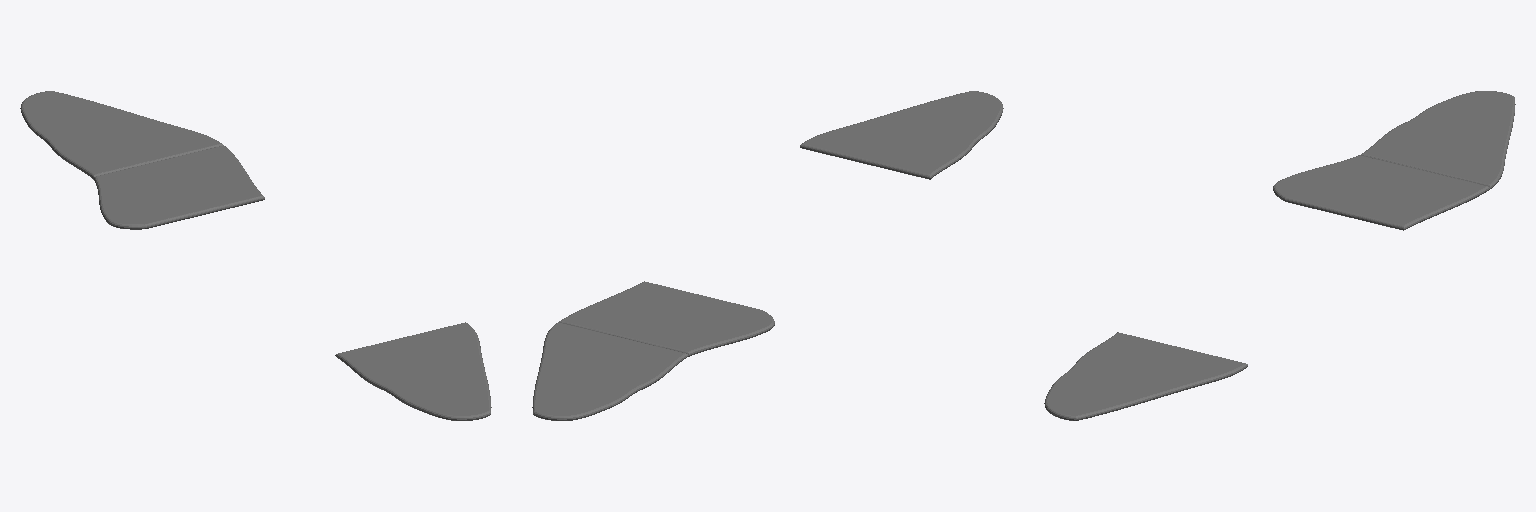
The robot description file, URDF, robot "pigeon_8":
<?xml version="1.0"?>

<robot
  name="pigeon_8">
  <link
    name="torso">
    <inertial>
      <origin
        xyz="-0.132434070149677 -0.0071275062500549 2.92945296786129E-07"
        rpy="0 0 0" />
      <mass
        value="0.266575552840038" />
      <inertia
        ixx="0.00016350796386525"
        ixy="1.49468441773123E-05"
        ixz="1.32757604675555E-08"
        iyy="0.0008571776199688"
        iyz="8.62174508642145E-09"
        izz="0.000802843103287114" />
    </inertial>
    <visual>
      <origin
        xyz="0 0 0"
        rpy="0 0 0" />
      <geometry>
        <mesh
          filename="../meshes/torso.STL" />
      </geometry>
      <material
        name="">
        <color
          rgba="0.5 0.5 0.5 1" />
      </material>
    </visual>
  </link>
  <link
    name="tail">
    <inertial>
      <origin
        xyz="-1.49386379874309E-15 3.52607914646941E-18 -0.0652517307094302"
        rpy="0 0 0" />
      <mass
        value="0.00283414865838335" />
      <inertia
        ixx="2.346394244564E-06"
        ixy="1.6796936313655E-23"
        ixz="-2.4459164318114E-20"
        iyy="1.14735911790603E-05"
        iyz="6.45749316579695E-24"
        izz="9.13466619052063E-06" />
    </inertial>
    <visual>
      <origin
        xyz="0 0 0"
        rpy="0 0 0" />
      <geometry>
        <mesh
          filename="../meshes/tail.STL" />
      </geometry>
      <material
        name="">
        <color
          rgba="0.5 0.5 0.5 1" />
      </material>
    </visual>
  </link>
  <joint
    name="tail_joint"
    type="continuous">
    <origin
      xyz="-0.22998 0 0"
      rpy="-1.5708 -6.123E-17 -1.5708" />
    <parent
      link="torso" />
    <child
      link="tail" />
    <axis
      xyz="-1 0 0" />
    <dynamics
      damping="0.0007" />
  </joint>
  <link
    name="left_shoulder_roll_ghost">
    <inertial>
       <mass
        value="0" />
    </inertial>
  </link>
  <joint
    name="left_shoulder_roll"
    type="continuous">
    <origin
      xyz="-0.07698 0.042 0"
      rpy="1.5708 0 0" />
    <parent
      link="torso" />
    <child
      link="left_shoulder_roll_ghost" />
    <axis
      xyz="1 0 0" />
    <dynamics
      damping="0.001" />
  </joint>
  <link
    name="left_shoulder_pitch_ghost">
    <inertial>
       <mass
        value="0" />
    </inertial>
  </link>
  <joint
    name="left_shoulder_pitch"
    type="continuous">
    <origin
      xyz="-0.005 0 0"
      rpy="0 0 0" />
    <parent
      link="left_shoulder_roll_ghost" />
    <child
      link="left_shoulder_pitch_ghost" />
    <axis
      xyz="0 0 1" />
    <dynamics
      damping="0.001" />
  </joint>
  <link
    name="left_upper_wing">
    <inertial>
      <origin
        xyz="-0.0218027728742863 1.26519792767838E-08 -0.0543039239207447"
        rpy="0 0 0" />
      <mass
        value="0.00478467934314603" />
      <inertia
        ixx="3.47747506697266E-06"
        ixy="1.43326598475424E-12"
        ixz="4.41899816252952E-07"
        iyy="4.1509026030839E-06"
        iyz="-3.28097162574946E-12"
        izz="6.85803263309497E-07" />
    </inertial>
    <visual>
      <origin
        xyz="0 0 0"
        rpy="0 0 0" />
      <geometry>
        <mesh
          filename="../meshes/left_upper_wing.STL" />
      </geometry>
      <material
        name="">
        <color
          rgba="0.5 0.5 0.5 1" />
      </material>
    </visual>
  </link>
  <joint
    name="left_shoulder_yaw"
    type="continuous">
    <origin
      xyz="0 0 0"
      rpy="3.141592653 -1.5708 0" />
    <parent
      link="left_shoulder_pitch_ghost" />
    <child
      link="left_upper_wing" />
    <axis
      xyz="0 1 0" />
    <dynamics
      damping="0.001" />
  </joint>
  <link
    name="left_elbow_roll_ghost">
    <inertial>
       <mass
        value="0" />
    </inertial>
  </link>
  <joint
    name="left_elbow_roll"
    type="continuous">
    <origin
      xyz="-0.041998 0 -0.010054"
      rpy="3.141592653 -1.5708 0" />
    <parent
      link="left_upper_wing" />
    <child
      link="left_elbow_roll_ghost" />
    <axis
      xyz="1 0 0" />
    <dynamics
      damping="0.001" />
  </joint>
  <link
    name="left_elbow_pitch_ghost">
    <inertial>
       <mass
        value="0" />
    </inertial>
  </link>
  <joint
    name="left_elbow_pitch"
    type="continuous">
    <origin
      xyz="-0.005 0 0"
      rpy="0 0 0" />
    <parent
      link="left_elbow_roll_ghost" />
    <child
      link="left_elbow_pitch_ghost" />
    <axis
      xyz="0 0 1" />
    <dynamics
      damping="0.001" />
  </joint>
  <link
    name="left_mid_wing">
    <inertial>
      <origin
        xyz="-0.0461463515315644 -7.03928812610859E-08 -0.0495486671552645"
        rpy="0 0 0" />
      <mass
        value="0.0092322213928293" />
      <inertia
        ixx="1.13159761781576E-05"
        ixy="2.18214270640706E-11"
        ixz="-1.65204671390385E-06"
        iyy="1.76124962714535E-05"
        iyz="1.10157921385632E-12"
        izz="6.32076926607804E-06" />
    </inertial>
    <visual>
      <origin
        xyz="0 0 0"
        rpy="0 0 0" />
      <geometry>
        <mesh
          filename="../meshes/left_mid_wing.STL" />
      </geometry>
      <material
        name="">
        <color
          rgba="0.5 0.5 0.5 1" />
      </material>
    </visual>
  </link>
  <joint
    name="left_elbow_yaw"
    type="continuous">
    <origin
      xyz="0 0 0"
      rpy="3.141592653 -1.5708 0" />
    <parent
      link="left_elbow_pitch_ghost" />
    <child
      link="left_mid_wing" />
    <axis
      xyz="0 1 0" />
    <dynamics
      damping="0.001" />
  </joint>
  <link
    name="left_hand_wing">
    <inertial>
      <origin
        xyz="-0.0597835058137273 -3.75375056547601E-08 -0.0458134569307155"
        rpy="0 0 0" />
      <mass
        value="0.00605546079567201" />
      <inertia
        ixx="4.30150583723145E-06"
        ixy="7.40776319597981E-12"
        ixz="1.56448026115006E-06"
        iyy="1.33027567122271E-05"
        iyz="4.65471379102572E-13"
        izz="9.01715501968073E-06" />
    </inertial>
    <visual>
      <origin
        xyz="0 0 0"
        rpy="0 0 0" />
      <geometry>
        <mesh
          filename="../meshes/left_hand_wing.STL" />
      </geometry>
      <material
        name="">
        <color
          rgba="0.5 0.5 0.5 1" />
      </material>
    </visual>
  </link>
  <joint
    name="left_wrist_roll"
    type="continuous">
    <origin
      xyz="-0.092963 0 0"
      rpy="0 0 1.1102E-14" />
    <parent
      link="left_mid_wing" />
    <child
      link="left_hand_wing" />
    <axis
      xyz="0 0 1" />
    <dynamics
      damping="0.0007" />
  </joint>
  <link
    name="right_shoulder_roll_ghost">
    <inertial>
       <mass
        value="0" />
    </inertial>
  </link>
  <joint
    name="right_shoulder_roll"
    type="continuous">
    <origin
      xyz="-0.07698 -0.042 0"
      rpy="1.5708 0 0" />
    <parent
      link="torso" />
    <child
      link="right_shoulder_roll_ghost" />
    <axis
      xyz="1 0 0" />
    <dynamics
      damping="0.001" />
  </joint>
  <link
    name="right_shoulder_pitch_ghost">
    <inertial>
       <mass
        value="0" />
    </inertial>
  </link>
  <joint
    name="right_shoulder_pitch"
    type="continuous">
    <origin
      xyz="-0.005 0 0"
      rpy="0 0 0" />
    <parent
      link="right_shoulder_roll_ghost" />
    <child
      link="right_shoulder_pitch_ghost" />
    <axis
      xyz="0 0 1" />
    <dynamics
      damping="0.001" />
  </joint>
  <link
    name="right_upper_wing">
    <inertial>
      <origin
        xyz="-0.0218027728742863 -1.26519792767838E-08 0.0543039239207447"
        rpy="0 0 0" />
      <mass
        value="0.00478467934314603" />
      <inertia
        ixx="3.47747506697266E-06"
        ixy="-1.43326598475424E-12"
        ixz="-4.41899816252952E-07"
        iyy="4.1509026030839E-06"
        iyz="-3.28097162574946E-12"
        izz="6.85803263309497E-07" />
    </inertial>
    <visual>
      <origin
        xyz="0 0 0"
        rpy="0 0 0" />
      <geometry>
        <mesh
          filename="../meshes/right_upper_wing.STL" />
      </geometry>
      <material
        name="">
        <color
          rgba="0.5 0.5 0.5 1" />
      </material>
    </visual>
  </link>
  <joint
    name="right_shoulder_yaw"
    type="continuous">
    <origin
      xyz="0 0 0"
      rpy="3.141592653 1.5708 0" />
    <parent
      link="right_shoulder_pitch_ghost" />
    <child
      link="right_upper_wing" />
    <axis
      xyz="0 -1 0" />
    <dynamics
      damping="0.001" />
  </joint>
  <link
    name="right_elbow_roll_ghost">
    <inertial>
       <mass
        value="0" />
    </inertial>
  </link>
  <joint
    name="right_elbow_roll"
    type="continuous">
    <origin
      xyz="-0.041998 0 0.010054"
      rpy="3.141592653 1.5708 0" />
    <parent
      link="right_upper_wing" />
    <child
      link="right_elbow_roll_ghost" />
    <axis
      xyz="1 0 0" />
    <dynamics
      damping="0.001" />
  </joint>
  <link
    name="right_elbow_pitch_ghost">
    <inertial>
       <mass
        value="0" />
    </inertial>
  </link>
  <joint
    name="right_elbow_pitch"
    type="continuous">
    <origin
      xyz="-0.005 0 0"
      rpy="0 0 0" />
    <parent
      link="right_elbow_roll_ghost" />
    <child
      link="right_elbow_pitch_ghost" />
    <axis
      xyz="0 0 1" />
    <dynamics
      damping="0.001" />
  </joint>
  <link
    name="right_mid_wing">
    <inertial>
      <origin
        xyz="-0.0461463515315644 7.03928812610859E-08 0.0495486671552645"
        rpy="0 0 0" />
      <mass
        value="0.0092322213928293" />
      <inertia
        ixx="1.13159761781576E-05"
        ixy="-2.18214270640706E-11"
        ixz="1.65204671390385E-06"
        iyy="1.76124962714535E-05"
        iyz="1.10157921385632E-12"
        izz="6.32076926607804E-06" />
    </inertial>
    <visual>
      <origin
        xyz="0 0 0"
        rpy="0 0 0" />
      <geometry>
        <mesh
          filename="../meshes/right_mid_wing.STL" />
      </geometry>
      <material
        name="">
        <color
          rgba="0.5 0.5 0.5 1" />
      </material>
    </visual>
  </link>
  <joint
    name="right_elbow_yaw"
    type="continuous">
    <origin
      xyz="0 0 0"
      rpy="3.141592653 1.5708 0" />
    <parent
      link="right_elbow_pitch_ghost" />
    <child
      link="right_mid_wing" />
    <axis
      xyz="0 -1 0" />
    <dynamics
      damping="0.001" />
  </joint>
  <link
    name="right_hand_wing">
    <inertial>
      <origin
        xyz="-0.0597835058137273 3.75375056547601E-08 0.0458134569307155"
        rpy="0 0 0" />
      <mass
        value="0.00605546079567201" />
      <inertia
        ixx="4.30150583723145E-06"
        ixy="-7.40776319597981E-12"
        ixz="-1.56448026115006E-06"
        iyy="1.33027567122271E-05"
        iyz="4.65471379102572E-13"
        izz="9.01715501968073E-06" />
    </inertial>
    <visual>
      <origin
        xyz="0 0 0"
        rpy="0 0 0" />
      <geometry>
        <mesh
          filename="../meshes/right_hand_wing.STL" />
      </geometry>
      <material
        name="">
        <color
          rgba="0.5 0.5 0.5 1" />
      </material>
    </visual>
  </link>
  <joint
    name="right_wrist_roll"
    type="continuous">
    <origin
      xyz="-0.092963 0 0"
      rpy="0 0 -1.1102E-14" />
    <parent
      link="right_mid_wing" />
    <child
      link="right_hand_wing" />
    <axis
      xyz="0 0 -1" />
    <dynamics
      damping="0.0007" />
  </joint>

  <transmission name="tail_joint_torque" type="SimpleTransmission" >
    <joint name="tail_joint" />
    <actuator name="tail_joint_servo"/>
    <mechanicalReduction>1</mechanicalReduction>
  </transmission>
  <transmission name="left_shoulder_roll_torque" type="SimpleTransmission" >
    <joint name="left_shoulder_roll" />
    <actuator name="left_shoulder_roll_servo"/>
    <mechanicalReduction>1</mechanicalReduction>
  </transmission>
  <transmission name="left_shoulder_pitch_torque" type="SimpleTransmission" >
    <joint name="left_shoulder_pitch" />
    <actuator name="left_shoulder_pitch_servo"/>
    <mechanicalReduction>1</mechanicalReduction>
  </transmission>
  <transmission name="left_shoulder_yaw_torque" type="SimpleTransmission" >
    <joint name="left_shoulder_yaw" />
    <actuator name="left_shoulder_yaw_servo"/>
    <mechanicalReduction>1</mechanicalReduction>
  </transmission>
  <transmission name="left_elbow_roll_torque" type="SimpleTransmission" >
    <joint name="left_elbow_roll" />
    <actuator name="left_elbow_roll_servo"/>
    <mechanicalReduction>1</mechanicalReduction>
  </transmission>
  <transmission name="left_elbow_pitch_torque" type="SimpleTransmission" >
    <joint name="left_elbow_pitch" />
    <actuator name="left_elbow_pitch_servo"/>
    <mechanicalReduction>1</mechanicalReduction>
  </transmission>
  <transmission name="left_elbow_yaw_torque" type="SimpleTransmission" >
    <joint name="left_elbow_yaw" />
    <actuator name="left_elbow_yaw_servo"/>
    <mechanicalReduction>1</mechanicalReduction>
  </transmission>
  <transmission name="left_wrist_roll_torque" type="SimpleTransmission" >
    <joint name="left_wrist_roll" />
    <actuator name="left_wrist_roll_servo"/>
    <mechanicalReduction>1</mechanicalReduction>
  </transmission>
  <transmission name="right_shoulder_roll_torque" type="SimpleTransmission" >
    <joint name="right_shoulder_roll" />
    <actuator name="right_shoulder_roll_servo"/>
    <mechanicalReduction>1</mechanicalReduction>
  </transmission>
  <transmission name="right_shoulder_pitch_torque" type="SimpleTransmission" >
    <joint name="right_shoulder_pitch" />
    <actuator name="right_shoulder_pitch_servo"/>
    <mechanicalReduction>1</mechanicalReduction>
  </transmission>
  <transmission name="right_shoulder_yaw_torque" type="SimpleTransmission" >
    <joint name="right_shoulder_yaw" />
    <actuator name="right_shoulder_yaw_servo"/>
    <mechanicalReduction>1</mechanicalReduction>
  </transmission>
  <transmission name="right_elbow_roll_torque" type="SimpleTransmission" >
    <joint name="right_elbow_roll" />
    <actuator name="right_elbow_roll_servo"/>
    <mechanicalReduction>1</mechanicalReduction>
  </transmission>
  <transmission name="right_elbow_pitch_torque" type="SimpleTransmission" >
    <joint name="right_elbow_pitch" />
    <actuator name="right_elbow_pitch_servo"/>
    <mechanicalReduction>1</mechanicalReduction>
  </transmission>
  <transmission name="right_elbow_yaw_torque" type="SimpleTransmission" >
    <joint name="right_elbow_yaw" />
    <actuator name="right_elbow_yaw_servo"/>
    <mechanicalReduction>1</mechanicalReduction>
  </transmission>
  <transmission name="right_wrist_roll_torque" type="SimpleTransmission" >
    <joint name="right_wrist_roll" />
    <actuator name="right_wrist_roll_servo"/>
    <mechanicalReduction>1</mechanicalReduction>
  </transmission>

  <force_element name="tail_force"> 
    <wing chord=".12567" nominal_speed="1" profile="flat plate" span=".23569" stall_angle="181">
      <parent link="tail"/>
  	<origin xyz="0 0 0" rpy="0 0 0"/> 
    </wing>
  </force_element>
  <force_element name="left_mid_wing_force"> 
    <wing chord=".13935" nominal_speed="1" profile="flat plate" span=".09296" stall_angle="181">
      <parent link="left_mid_wing"/>
  	<origin xyz="0 0 0" rpy="0 0 0"/> 
    </wing>
  </force_element>
  <force_element name="left_hand_wing_force"> 
    <wing chord=".11067" nominal_speed="1" profile="flat plate" span=".14572" stall_angle="181">
      <parent link="left_hand_wing"/>
  	<origin xyz="0 0 0" rpy="0 0 0"/> 
    </wing>
  </force_element>
  <force_element name="right_mid_wing_force"> 
    <wing chord=".13935" nominal_speed="1" profile="flat plate" span=".09296" stall_angle="181">
      <parent link="right_mid_wing"/>
  	<origin xyz="0 0 0" rpy="0 0 0"/> 
    </wing>
  </force_element>
  <force_element name="right_hand_wing_force"> 
    <wing chord=".11067" nominal_speed="1" profile="flat plate" span=".14572" stall_angle="181">
      <parent link="right_hand_wing"/>
  	<origin xyz="0 0 0" rpy="0 0 0"/> 
    </wing> 
  </force_element>
  <force_element name="tail_spring">
    <torsional_spring stiffness="0.005" rest_angle="0">
      <joint name="tail_joint" />
    </torsional_spring>
  </force_element>
  <force_element name="left_shoulder_roll_spring">
    <torsional_spring stiffness="0.1" rest_angle="0">
      <joint name="left_shoulder_roll" />
    </torsional_spring>
  </force_element>
  <force_element name="left_shoulder_pitch_spring">
    <torsional_spring stiffness="0.1" rest_angle="0">
      <joint name="left_shoulder_pitch" />
    </torsional_spring>
  </force_element>
  <force_element name="left_shoulder_yaw_spring">
    <torsional_spring stiffness="0.1" rest_angle="0">
      <joint name="left_shoulder_yaw" />
    </torsional_spring>
  </force_element>
  <force_element name="left_elbow_roll_spring">
    <torsional_spring stiffness="0.05" rest_angle="0">
      <joint name="left_elbow_roll" />
    </torsional_spring>
  </force_element>
  <force_element name="left_elbow_pitch_spring">
    <torsional_spring stiffness="0.05" rest_angle="0">
      <joint name="left_elbow_pitch" />
    </torsional_spring>
  </force_element>
  <force_element name="left_elbow_yaw_spring">
    <torsional_spring stiffness="0.05" rest_angle="0">
      <joint name="left_elbow_yaw" />
    </torsional_spring>
  </force_element>
  <force_element name="left_wrist_roll_spring">
    <torsional_spring stiffness="0.005" rest_angle="0">
      <joint name="left_wrist_roll" />
    </torsional_spring>
  </force_element>
  <force_element name="right_shoulder_roll_spring">
    <torsional_spring stiffness="0.1" rest_angle="0">
      <joint name="right_shoulder_roll" />
    </torsional_spring>
  </force_element>
  <force_element name="right_shoulder_pitch_spring">
    <torsional_spring stiffness="0.1" rest_angle="0">
      <joint name="right_shoulder_pitch" />
    </torsional_spring>
  </force_element>
  <force_element name="right_shoulder_yaw_spring">
    <torsional_spring stiffness="0.1" rest_angle="0">
      <joint name="right_shoulder_yaw" />
    </torsional_spring>
  </force_element>
  <force_element name="right_elbow_roll_spring">
    <torsional_spring stiffness="0.05" rest_angle="0">
      <joint name="right_elbow_roll" />
    </torsional_spring>
  </force_element>
  <force_element name="right_elbow_pitch_spring">
    <torsional_spring stiffness="0.05" rest_angle="0">
      <joint name="right_elbow_pitch" />
    </torsional_spring>
  </force_element>
  <force_element name="right_elbow_yaw_spring">
    <torsional_spring stiffness="0.05" rest_angle="0">
      <joint name="right_elbow_yaw" />
    </torsional_spring>
  </force_element>
  <force_element name="right_wrist_roll_spring">
    <torsional_spring stiffness="0.005" rest_angle="0">
      <joint name="right_wrist_roll" />
    </torsional_spring>
  </force_element>

</robot>

--- Facts derived from the render (not from the file) ---
Views: 3 orthographic renders of the robot side by side, from view 1: azimuth 30°, elevation 25°; view 2: azimuth 150°, elevation 25°; view 3: azimuth 330°, elevation 25°.
Model pigeon_8 with 16 links and 15 joints (15 continuous), rooted at torso, posed every joint at zero.
Visible links, largest first — view 1: right_hand_wing, left_hand_wing, left_mid_wing; view 2: right_hand_wing, left_hand_wing, left_mid_wing; view 3: right_hand_wing, left_mid_wing, left_hand_wing.
Link boxes in pixels (<box>): right_hand_wing: <box>335,322,491,420</box>; left_hand_wing: <box>20,91,222,179</box>; left_mid_wing: <box>93,145,264,229</box>; right_hand_wing: <box>800,91,1003,179</box>; left_hand_wing: <box>532,322,688,420</box>; left_mid_wing: <box>559,281,774,356</box>; right_hand_wing: <box>1044,332,1247,420</box>; left_mid_wing: <box>1273,155,1489,230</box>; left_hand_wing: <box>1361,91,1515,188</box>.
Bounding box of the posed robot: 0.1396 × 0.6464 × 0.004 m (x, y, z).
Meshes: 8 distinct files referenced, 3 mesh visuals loaded (3 binary STL); not drawn: 5 (reference not matched to a file when rendering).